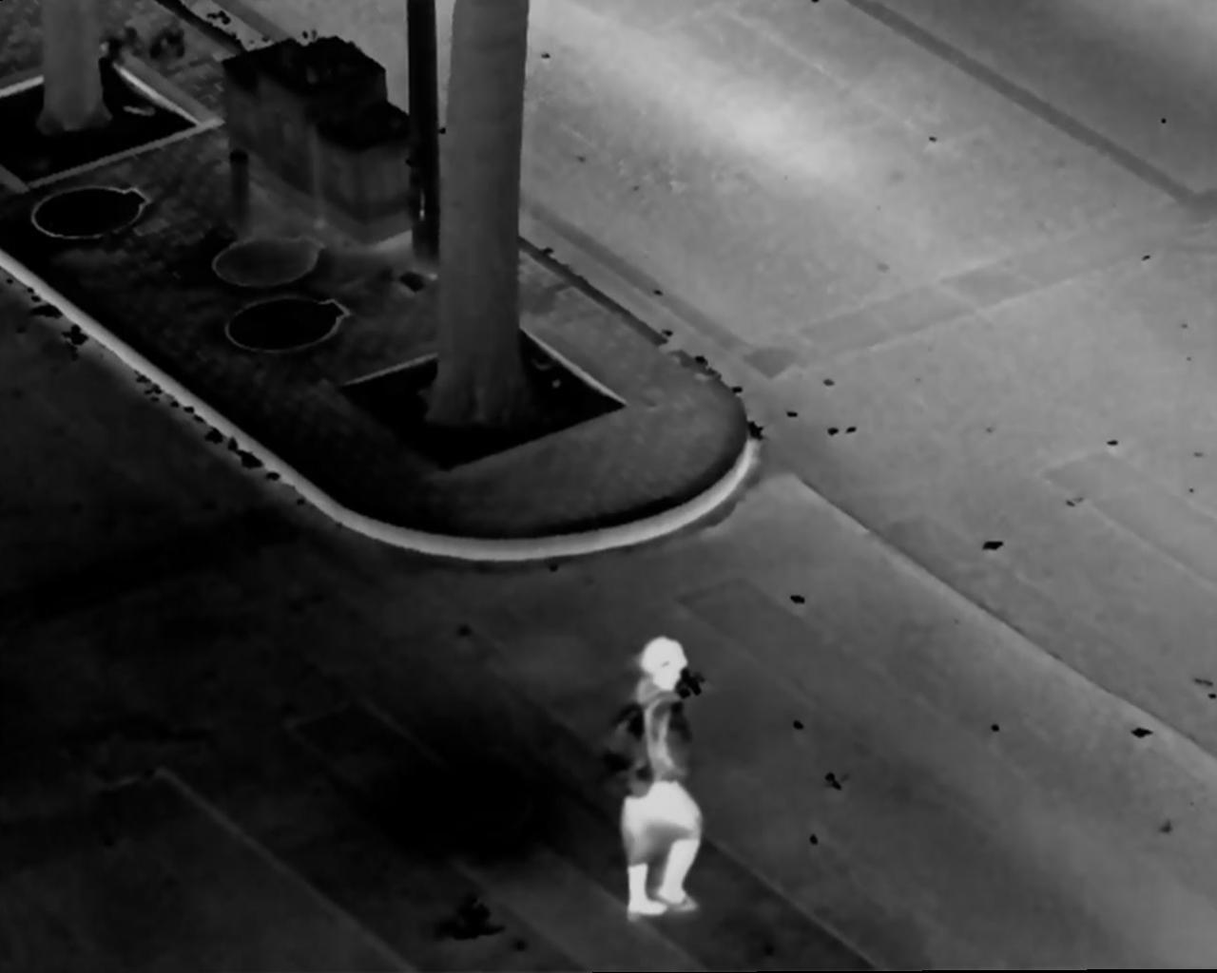person: (596, 636, 716, 926)
